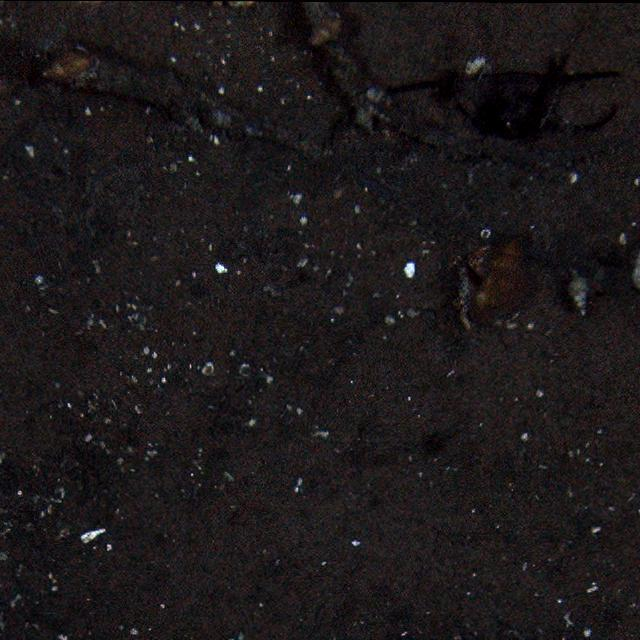whelk: (457, 235, 537, 331)
